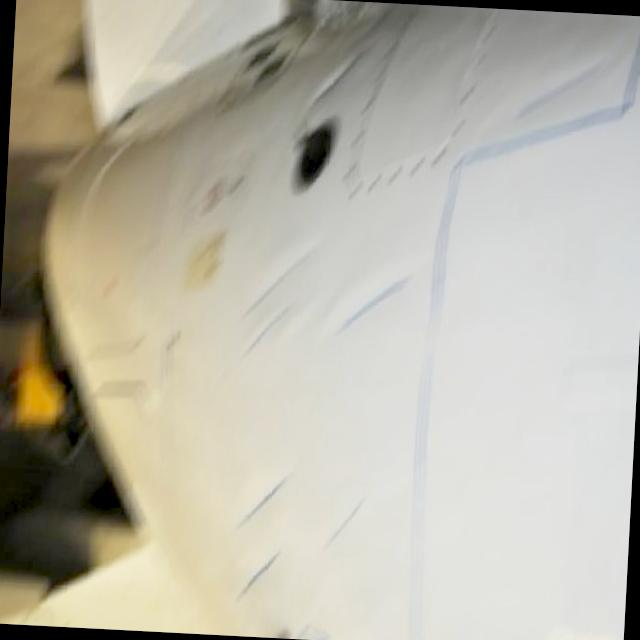dent: (238, 248, 306, 371), (338, 271, 416, 349), (516, 60, 604, 126), (300, 50, 363, 119), (237, 471, 289, 542), (236, 545, 284, 610)
